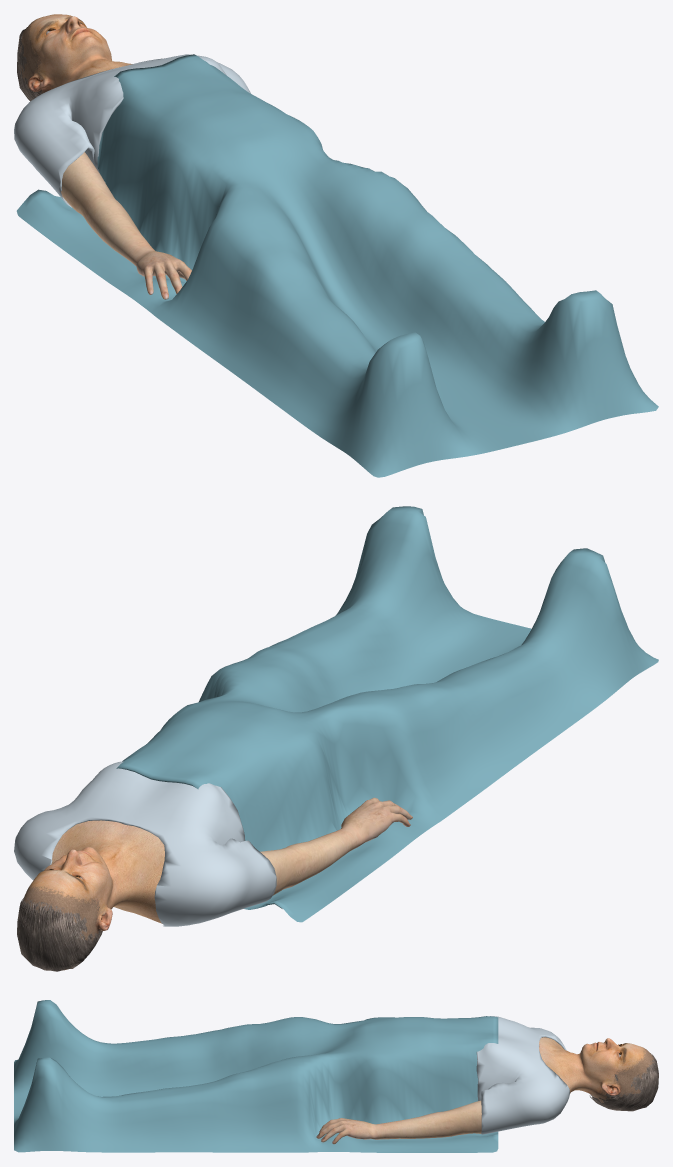
3 renders of one model, top to bottom at view 1: azimuth 30°, elevation 25°; view 2: azimuth 150°, elevation 25°; view 3: azimuth 270°, elevation 25°, orthographic. The views are drawn at different scales.
Parts seen in each view (by area): view 1: sheet, gown, arms, body; view 2: sheet, gown, body, arms, hair; view 3: sheet, gown, body, arms, hair.
Boxes of the visible parts, x1=… form: sheet: x1=16, y1=54, x2=658, y2=477; gown: x1=14, y1=54, x2=250, y2=207; arms: x1=61, y1=152, x2=191, y2=299; body: x1=20, y1=14, x2=132, y2=94; sheet: x1=116, y1=506, x2=658, y2=922; gown: x1=14, y1=761, x2=276, y2=926; body: x1=22, y1=820, x2=164, y2=970; arms: x1=260, y1=797, x2=412, y2=895; hair: x1=17, y1=897, x2=102, y2=971; sheet: x1=14, y1=1000, x2=498, y2=1152; gown: x1=476, y1=1016, x2=570, y2=1134; body: x1=539, y1=1037, x2=654, y2=1102; arms: x1=316, y1=1100, x2=481, y2=1144; hair: x1=589, y1=1053, x2=658, y2=1111.
Size of the model in its own units: 0.6435 by 0.2604 by 1.89.
8 materials, 6 textured.
